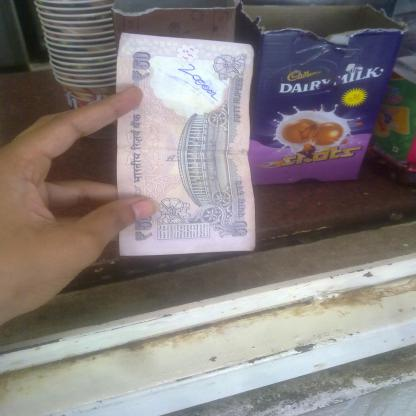Old50Back: (116, 33, 257, 256)
